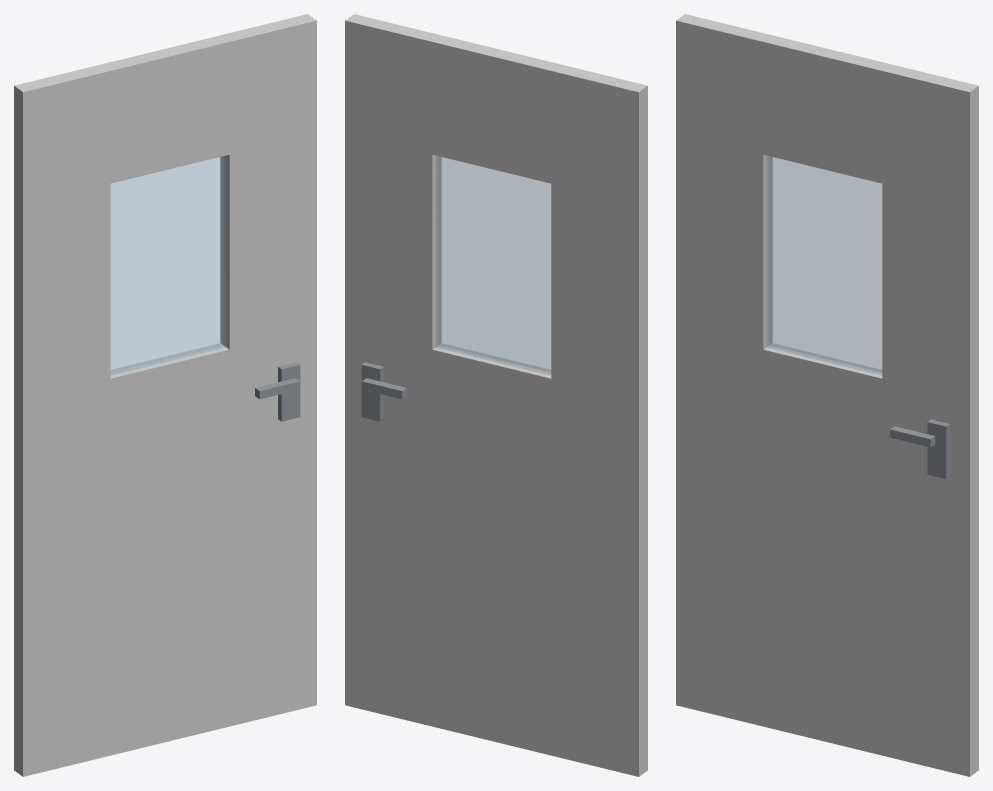
The model's file is SM_Door_office_95x210.fbx.
3 renders of one model, left to right at view 1: azimuth 30°, elevation 25°; view 2: azimuth 150°, elevation 25°; view 3: azimuth 330°, elevation 25°, orthographic.
Visible parts, largest first — view 1: SM_Door_office_95x210; view 2: SM_Door_office_95x210; view 3: SM_Door_office_95x210.
Boxes of the visible parts, x1,y1,x2,y2 form: SM_Door_office_95x210: (14,14,316,776); SM_Door_office_95x210: (345,14,647,776); SM_Door_office_95x210: (676,14,978,776).
Bounding box in the file's own units: 0.938 × 2.09 × 0.175.
